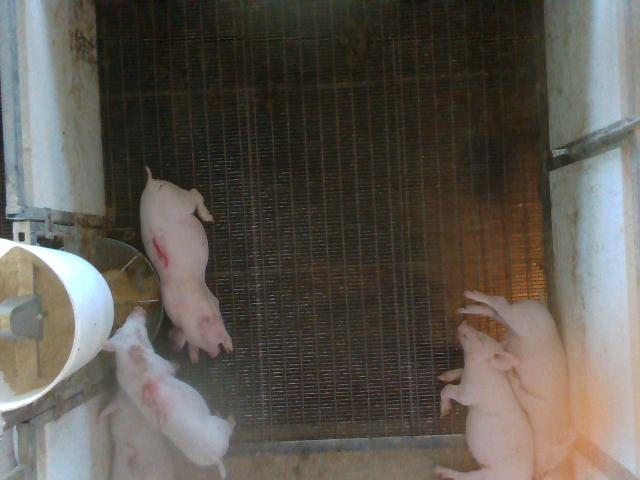pig-1: (140, 168, 232, 361)
pig-3: (100, 389, 175, 478)
pig-5: (104, 309, 232, 477)
